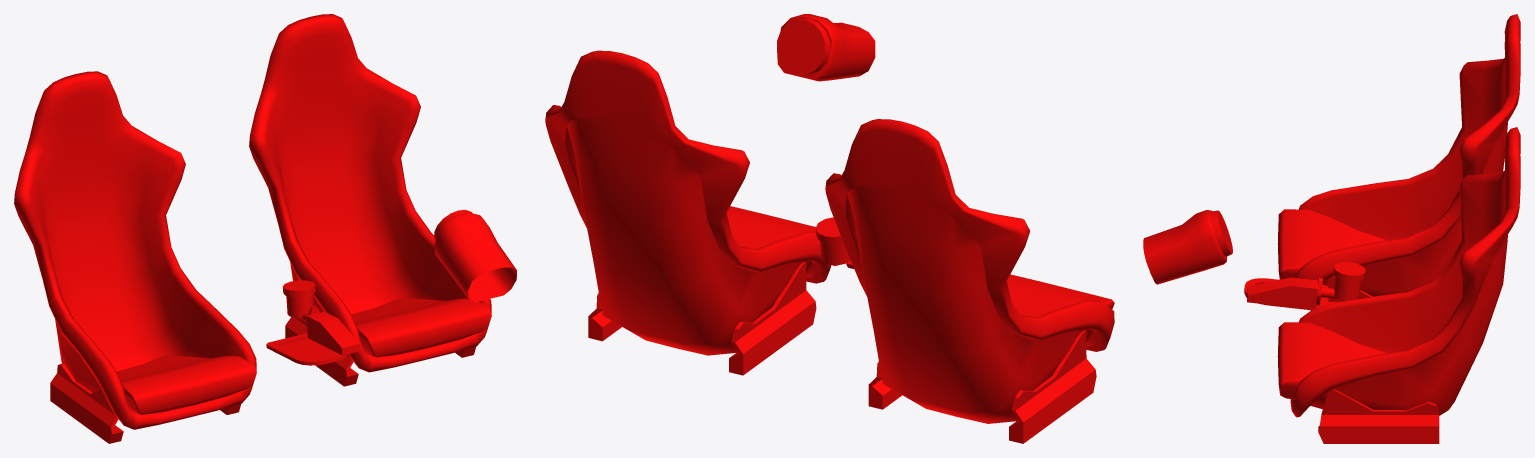
File: BMW_E36_Inside_Detail.fbx
The picture shows the model from 3 angles, left to right: view 1: azimuth 30°, elevation 25°; view 2: azimuth 150°, elevation 25°; view 3: azimuth 270°, elevation 25°; orthographic projection. The views are drawn at different scales.
Visible parts, largest first — view 1: BMW_E36_Inside_Detail; view 2: BMW_E36_Inside_Detail; view 3: BMW_E36_Inside_Detail.
Part boxes in pixels (x1=…): BMW_E36_Inside_Detail: x1=14, y1=14, x2=516, y2=443; BMW_E36_Inside_Detail: x1=545, y1=14, x2=1114, y2=443; BMW_E36_Inside_Detail: x1=1143, y1=14, x2=1520, y2=443.
Bounding box in the file's own units: 1.26 × 0.8387 × 1.03.
